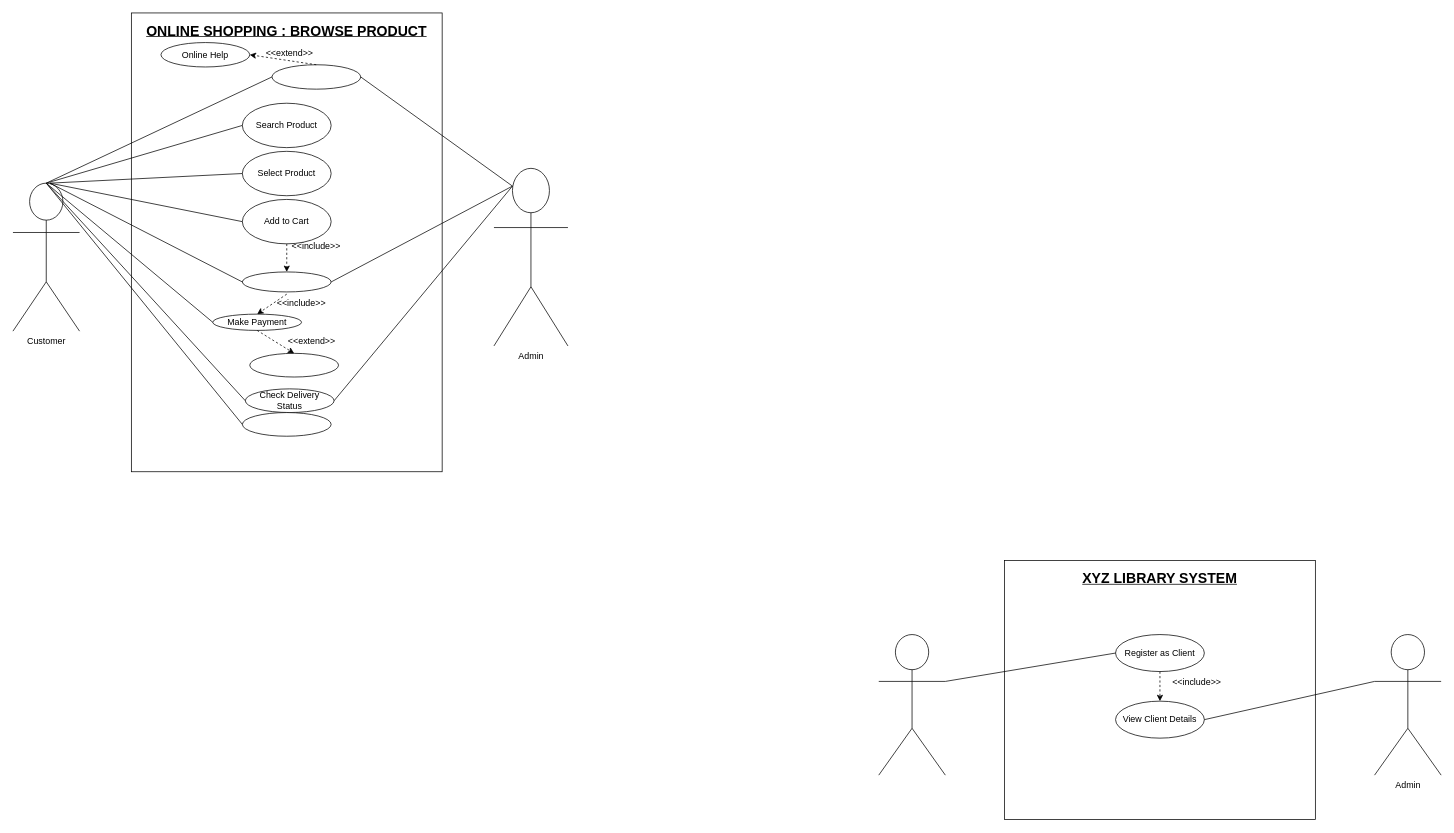
The diagram is 1454 pixels wide and 833 high, and some of its shapes have lost their labels. The centre of each missing label's shape, as x and y in pixels:
"Calculate Payment Details" goes at point (294, 365).
"Checkout" goes at point (286, 281).
"Login" goes at point (316, 76).
"Product Review" goes at point (286, 424).
"User" goes at point (911, 704).
